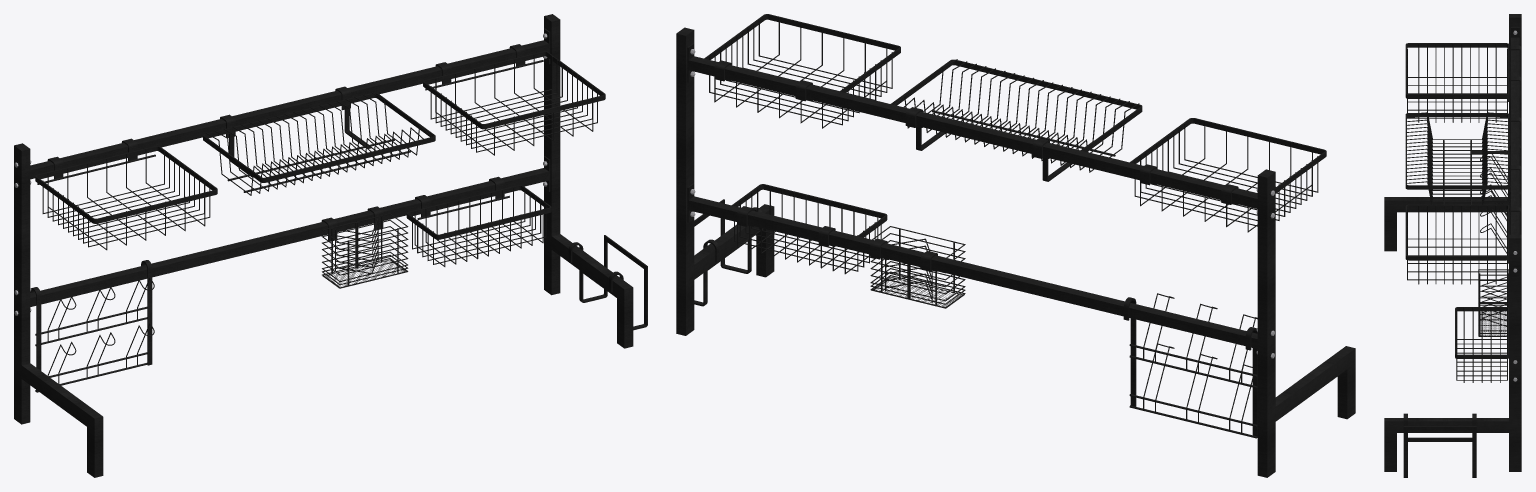
Rendered from 131 - abchekan 120cm meshki.glb.
The picture shows the model from 3 angles, left to right: view 1: azimuth 30°, elevation 25°; view 2: azimuth 150°, elevation 25°; view 3: azimuth 270°, elevation 25°; orthographic projection. The views are drawn at different scales.
Parts seen in each view (by area): view 1: Group#79 [77777] (×2), Group#67 [48943] (×2), Group#65 [50701] (×2), Group#66 [50719], Group#53 [48909], Group#82 [77783], Group#69 [50745]; view 2: Group#67 [48943] (×2), Group#79 [77777] (×2), Group#65 [50701] (×2), Group#66 [50719], Group#53 [48909], Group#82 [77783], Group#64 [48927], Group#69 [50745]; view 3: Group#79 [77777] (×2), Group#45 [41258] (×17), Group#65 [50701] (×2), Group#67 [48943], Group#41 [43041] (×7), Group#82 [77783], Group#66 [50719], Group#53 [48909], Group#69 [50745], Group#42 [42956].
Part boxes in pixels (x1,y1,x2,y2): Group#79 [77777] (×2): [14, 14, 633, 477]; Group#67 [48943] (×2): [30, 40, 548, 306]; Group#65 [50701] (×2): [35, 51, 605, 223]; Group#66 [50719]: [203, 92, 435, 182]; Group#53 [48909]: [406, 185, 551, 239]; Group#82 [77783]: [568, 235, 647, 330]; Group#69 [50745]: [322, 259, 407, 288]; Group#67 [48943] (×2): [688, 56, 1257, 348]; Group#79 [77777] (×2): [676, 27, 1355, 477]; Group#65 [50701] (×2): [704, 14, 1326, 193]; Group#66 [50719]: [891, 59, 1142, 151]; Group#53 [48909]: [732, 184, 887, 237]; Group#82 [77783]: [694, 199, 762, 306]; Group#64 [48927]: [1123, 297, 1136, 406]; Group#69 [50745]: [871, 276, 964, 308]; Group#79 [77777] (×2): [1384, 14, 1521, 471]; Group#45 [41258] (×17): [1405, 112, 1509, 201]; Group#65 [50701] (×2): [1405, 43, 1509, 260]; Group#67 [48943]: [1511, 37, 1519, 234]; Group#41 [43041] (×7): [1407, 64, 1507, 280]; Group#82 [77783]: [1403, 413, 1476, 477]; Group#66 [50719]: [1405, 113, 1509, 189]; Group#53 [48909]: [1455, 307, 1508, 358]; Group#69 [50745]: [1479, 311, 1506, 336]; Group#42 [42956]: [1478, 269, 1508, 298].
Size of the model in its own units: 1.3 by 0.6 by 0.32.
4 materials, 4 textured.
